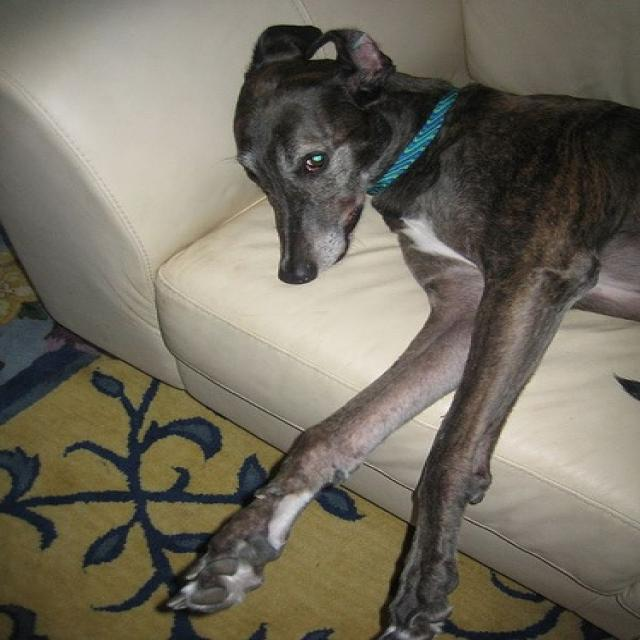dog: (166, 23, 636, 639)
sofa: (0, 0, 638, 638)
